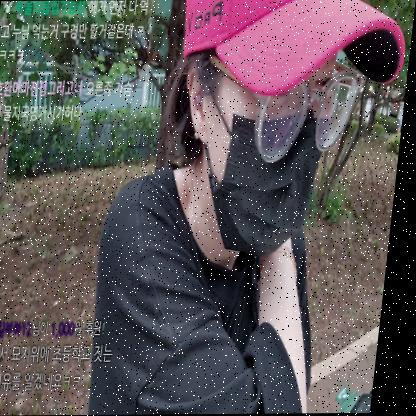donation: (0, 318, 123, 390)
streamer: (90, 0, 410, 415)
